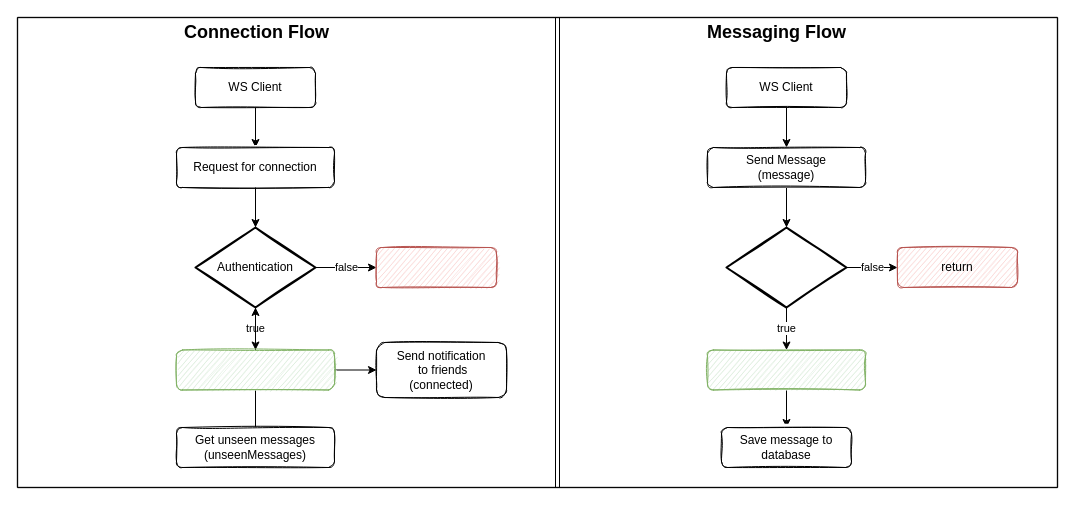
Some shapes in this 1076 by 506 pixel diagram are drawn without their labels. The shapes that lost their labels are listed below. From the top down, each one's box as (x1, y1, x2, y2) in pixels, then its label:
(376, 246, 496, 288): Disconnect Client (connect_error)
(725, 226, 847, 308): Has friend
(176, 349, 334, 390): Connected
(706, 349, 866, 390): Forward message to friends (message)
